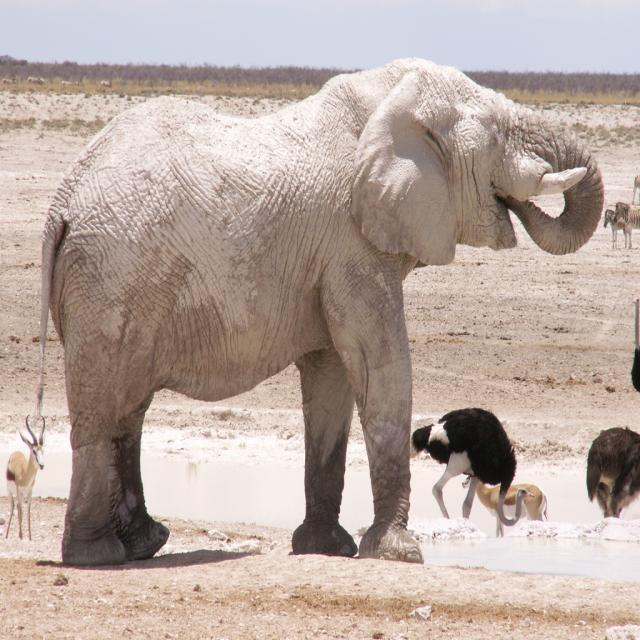Elephant: (33, 55, 604, 566)
